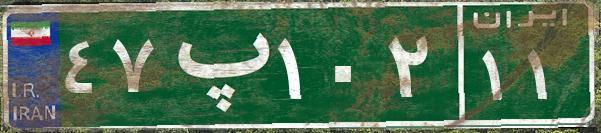0: (330, 28, 385, 110)
1: (273, 28, 330, 110), (475, 38, 525, 113), (525, 38, 570, 115)
2: (385, 28, 445, 110)
4: (57, 26, 110, 107)
7: (110, 28, 158, 105)
پ: (158, 15, 273, 115)
